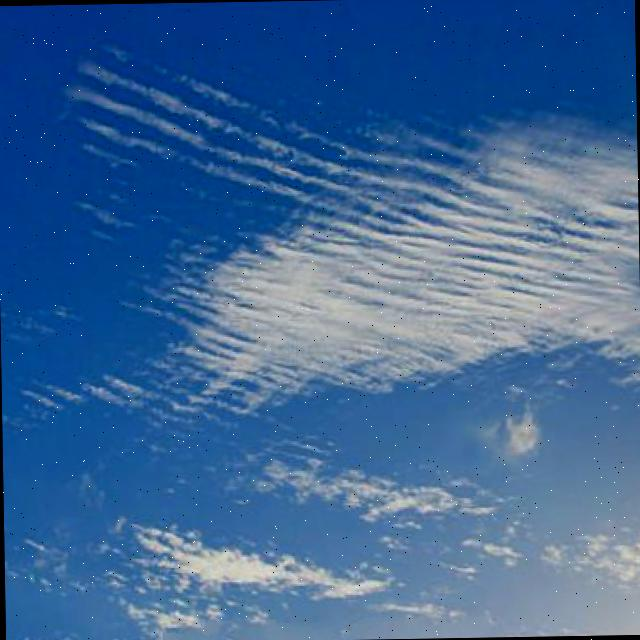Cs: (1, 65, 640, 490)
